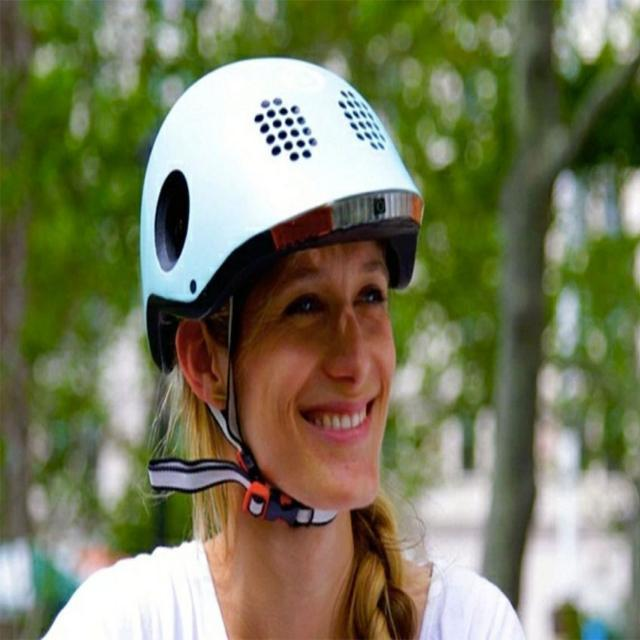helmet: (142, 56, 426, 534)
